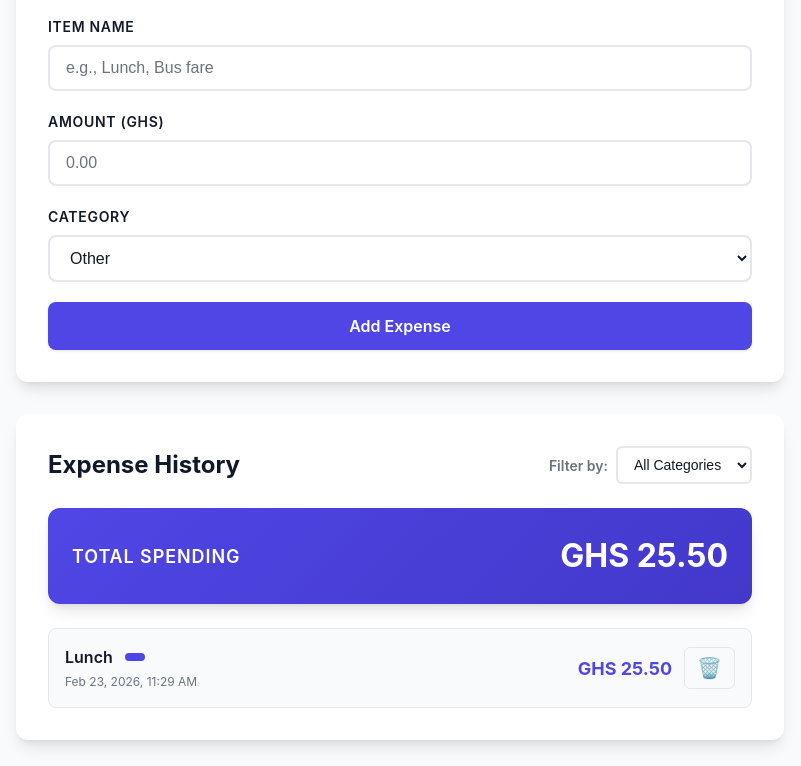
User Story 4: Delete Expense - Frontend UI › Acceptance Criteria #3: Total spending updates immediately › should show success message after deletion
(page scrolled)
Expected: the text "Lunch" is shown, [65, 645, 113, 669]
Click the button named "delete lunch".
click(710, 668)  # box [684, 647, 735, 689]
(page scrolled)
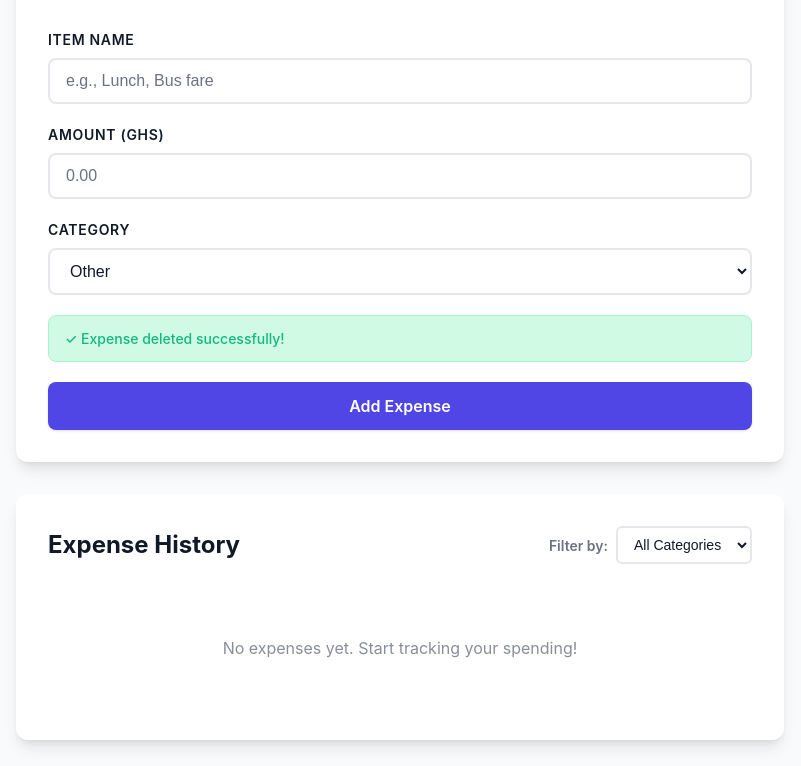
Now the text "✓ Expense deleted successfully!" is shown, box [48, 315, 752, 362]
